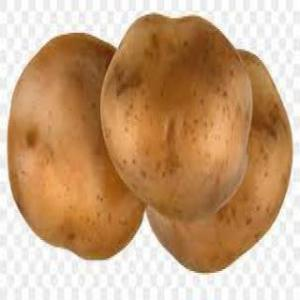potato: (148, 48, 294, 274), (101, 13, 251, 222), (6, 36, 144, 260)
